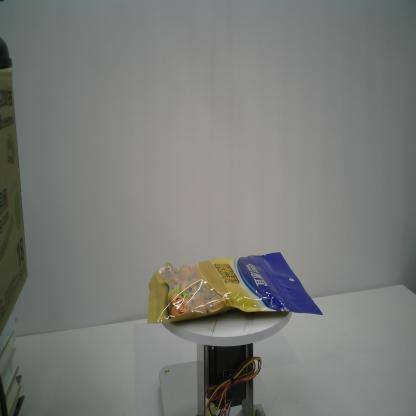Dried Fruit: (146, 252, 324, 325)
